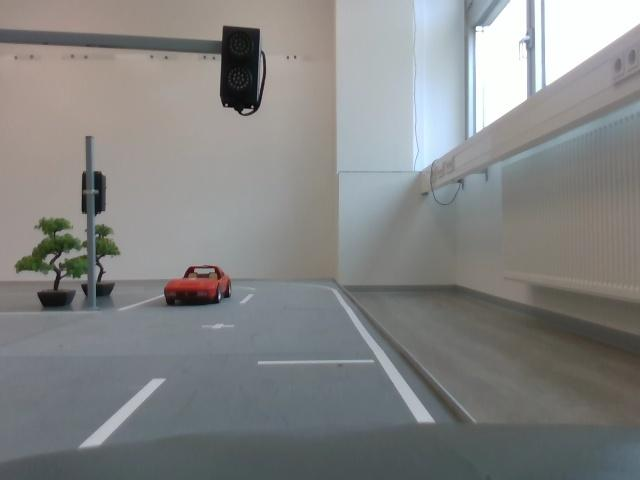car: (162, 260, 242, 310)
potted plant: (15, 211, 86, 308), (80, 224, 122, 302)
traffic light: (216, 21, 271, 119), (80, 169, 116, 219)
